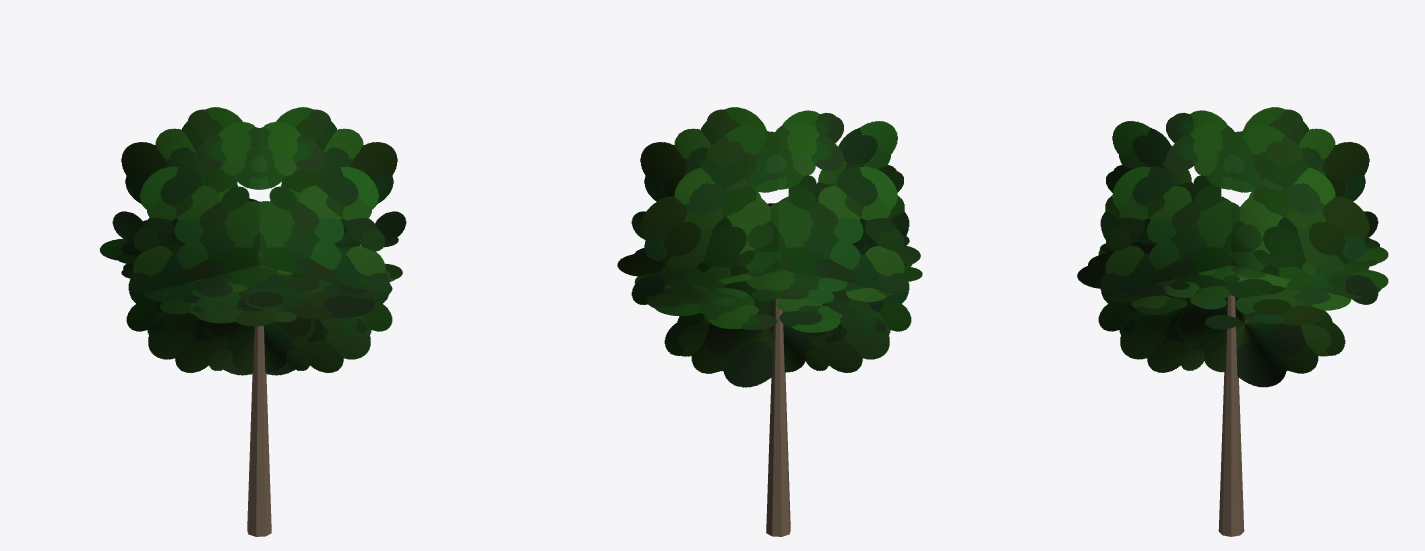
Rendered from broadleaf_s.glb.
3 views of the same model, side by side, from view 1: azimuth 30°, elevation 25°; view 2: azimuth 150°, elevation 25°; view 3: azimuth 270°, elevation 25° (orthographic).
Visible parts, largest first — view 1: broadleaf_s; view 2: broadleaf_s; view 3: broadleaf_s.
Part boxes in pixels (x1,y1,x2,y2): broadleaf_s: (100, 107, 406, 536); broadleaf_s: (617, 107, 922, 536); broadleaf_s: (1077, 107, 1388, 536).
Bounding box in the file's own units: 5 × 6 × 4.5.
2 materials, 1 textured.
